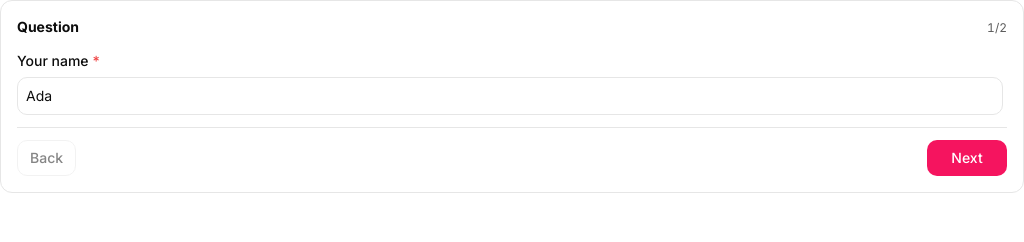
Test: QuestionForm › omits an unanswered optional field
This screenshot has width=1024, height=242.
Later steps or results of the test are not shown.
Click the button "Next".
click(967, 158)  # box x1=927 y1=140 x2=1007 y2=176
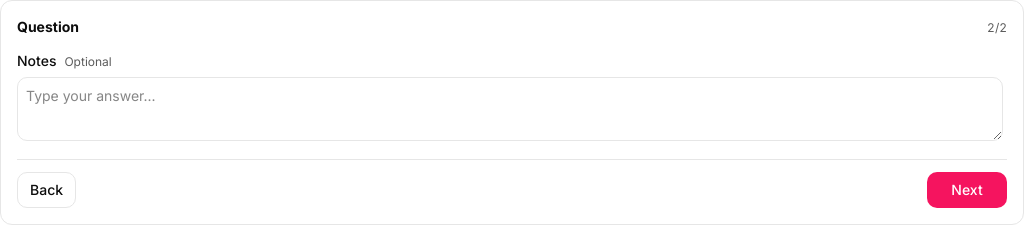
Click the button "Next".
click(967, 190)  # box x1=927 y1=172 x2=1007 y2=208
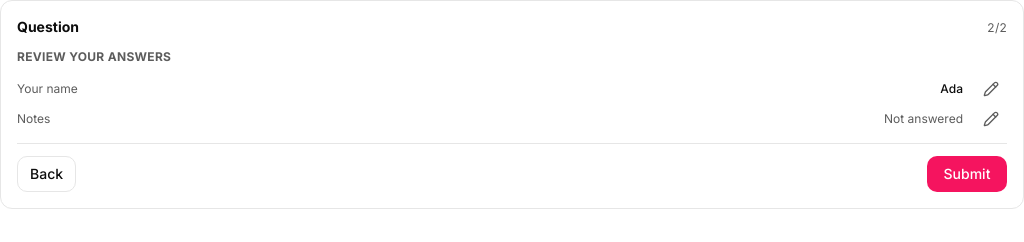
Check: the text "Review your answers" is shown, box x1=17 y1=49 x2=171 y2=64
Check: the text "Not answered" is shown, box x1=884 y1=111 x2=963 y2=126
